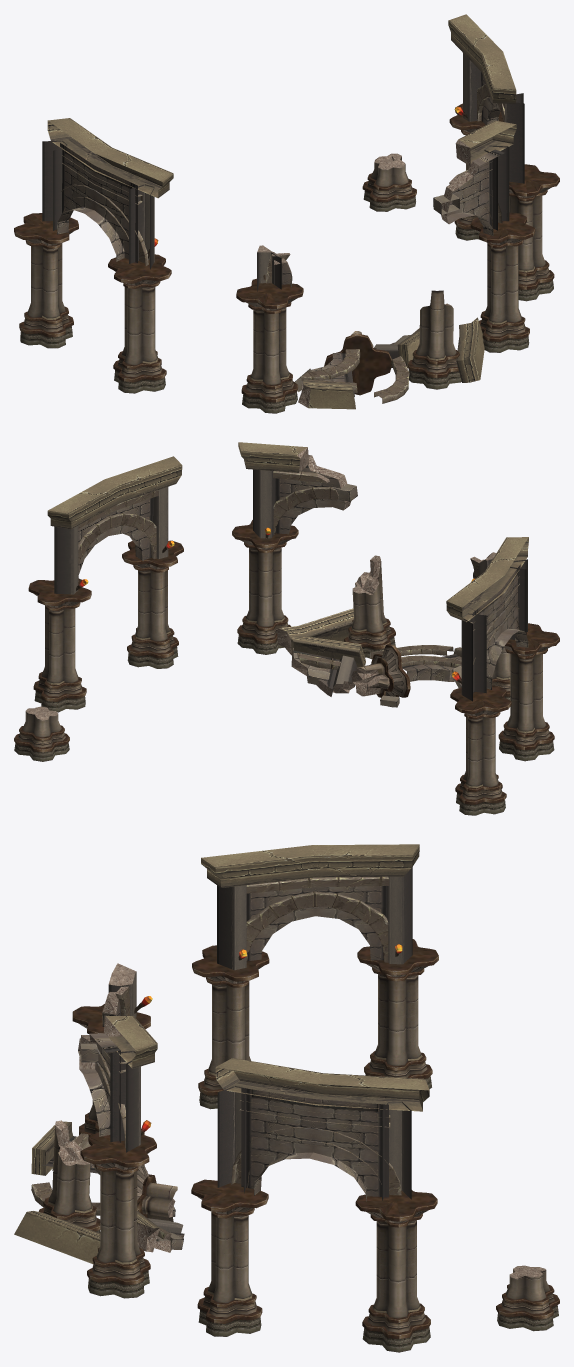
The model's file is HD_YuYanZheZhiTa_002_02.FBX.
3 renders of one model, top to bottom at view 1: azimuth 30°, elevation 25°; view 2: azimuth 150°, elevation 25°; view 3: azimuth 270°, elevation 25°, orthographic. The views are drawn at different scales.
Parts seen in each view (by area): view 1: HD_YuYanZheZhiTa_002_02; view 2: HD_YuYanZheZhiTa_002_02; view 3: HD_YuYanZheZhiTa_002_02.
Boxes of the visible parts, <box> form: HD_YuYanZheZhiTa_002_02: <box>14,14,559,413</box>; HD_YuYanZheZhiTa_002_02: <box>14,442,559,815</box>; HD_YuYanZheZhiTa_002_02: <box>14,844,559,1352</box>.
Size of the model in its own units: 5505 by 2506 by 4422.
